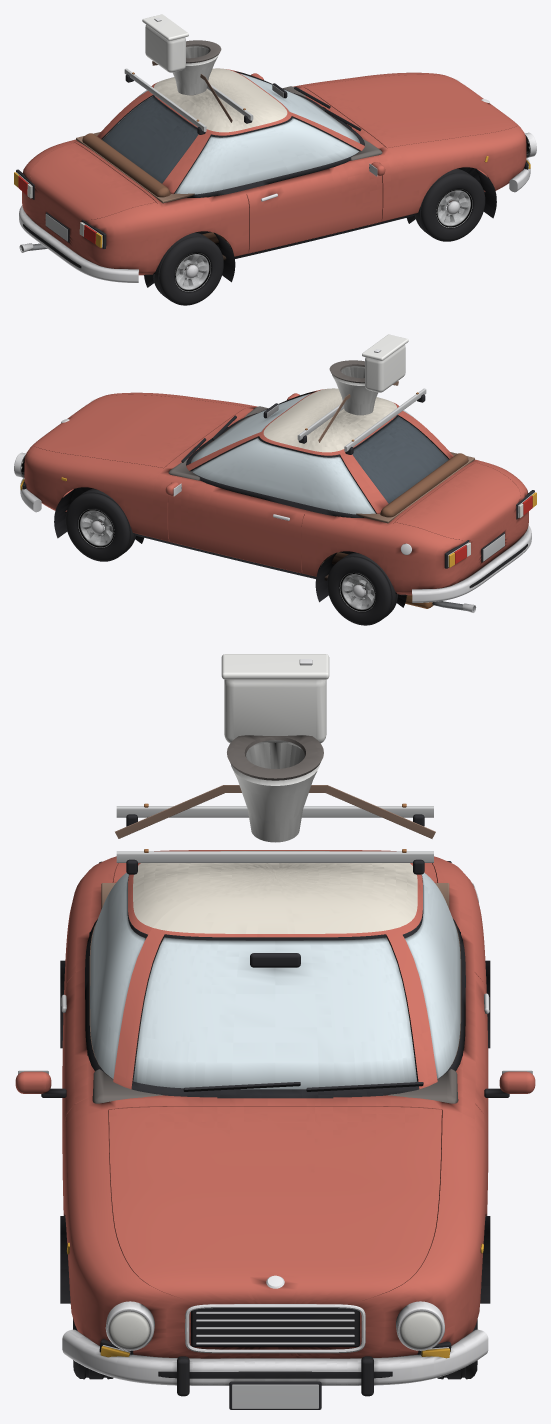
File: testcar.glb
The picture shows the model from 3 angles, top to bottom: view 1: azimuth 30°, elevation 25°; view 2: azimuth 150°, elevation 25°; view 3: azimuth 270°, elevation 25°; orthographic projection. The views are drawn at different scales.
Parts seen in each view (by area): view 1: BODY, GLASS, WHEEL_RR, WHEEL_FR, INTERIOR; view 2: BODY, GLASS, WHEEL_RL, WHEEL_FL, INTERIOR; view 3: BODY, GLASS, INTERIOR.
Part boxes in pixels (x1,y1,x2,y2): BODY: [14, 14, 536, 287]; GLASS: [102, 73, 359, 194]; WHEEL_RR: [153, 232, 223, 305]; WHEEL_FR: [415, 168, 485, 241]; INTERIOR: [76, 83, 382, 270]; BODY: [14, 334, 536, 612]; GLASS: [191, 393, 448, 514]; WHEEL_RL: [327, 552, 397, 625]; WHEEL_FL: [65, 488, 135, 561]; INTERIOR: [168, 403, 474, 590]; BODY: [15, 654, 535, 1409]; GLASS: [90, 872, 460, 1089]; INTERIOR: [92, 883, 458, 1103].
Size of the model in its own units: 4.09 by 2.06 by 2.03.
